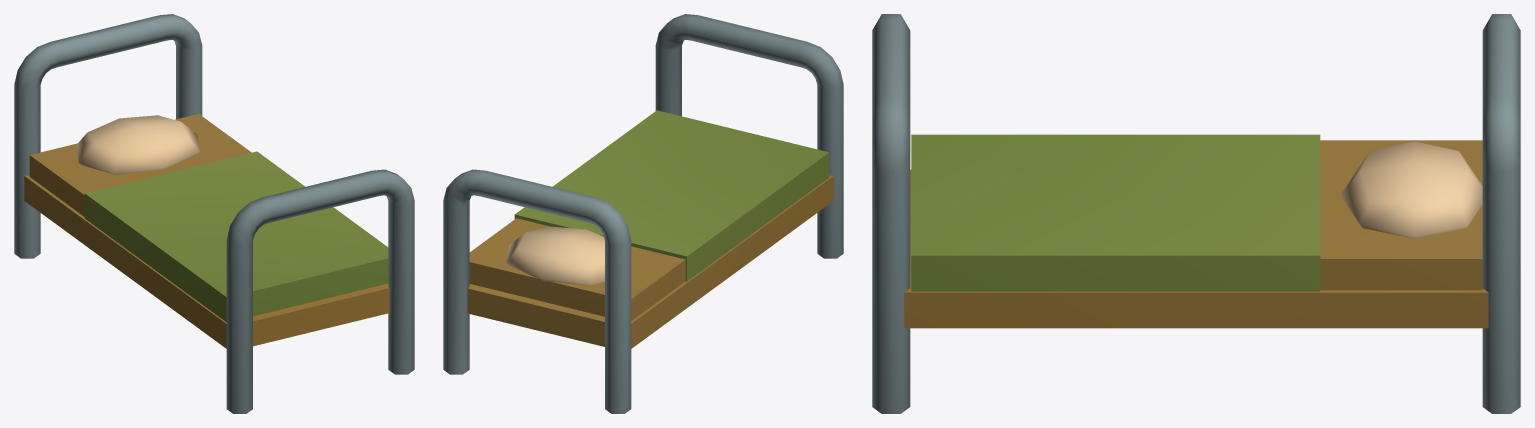
Rendered from Bed.fbx.
3 renders of one model, left to right at view 1: azimuth 30°, elevation 25°; view 2: azimuth 150°, elevation 25°; view 3: azimuth 270°, elevation 25°, orthographic. The views are drawn at different scales.
Visible parts, largest first — view 1: Bed; view 2: Bed; view 3: Bed.
Part boxes in pixels (bbox=[...]): Bed: bbox=[14, 14, 414, 413]; Bed: bbox=[443, 14, 843, 413]; Bed: bbox=[872, 14, 1520, 413].
Bounding box in the file's own units: 94.58 × 101 × 204.
